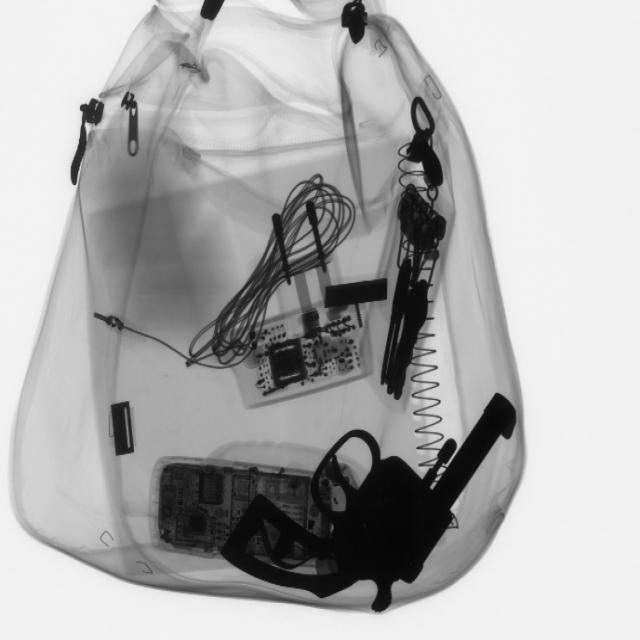GUN: (224, 385, 527, 614)
